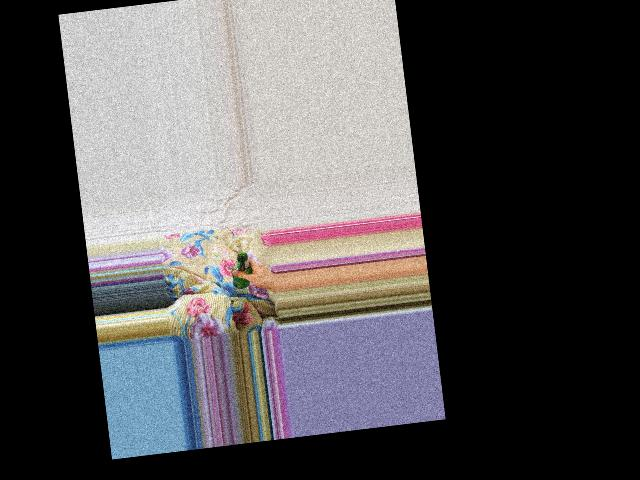beer: (230, 252, 254, 289)
